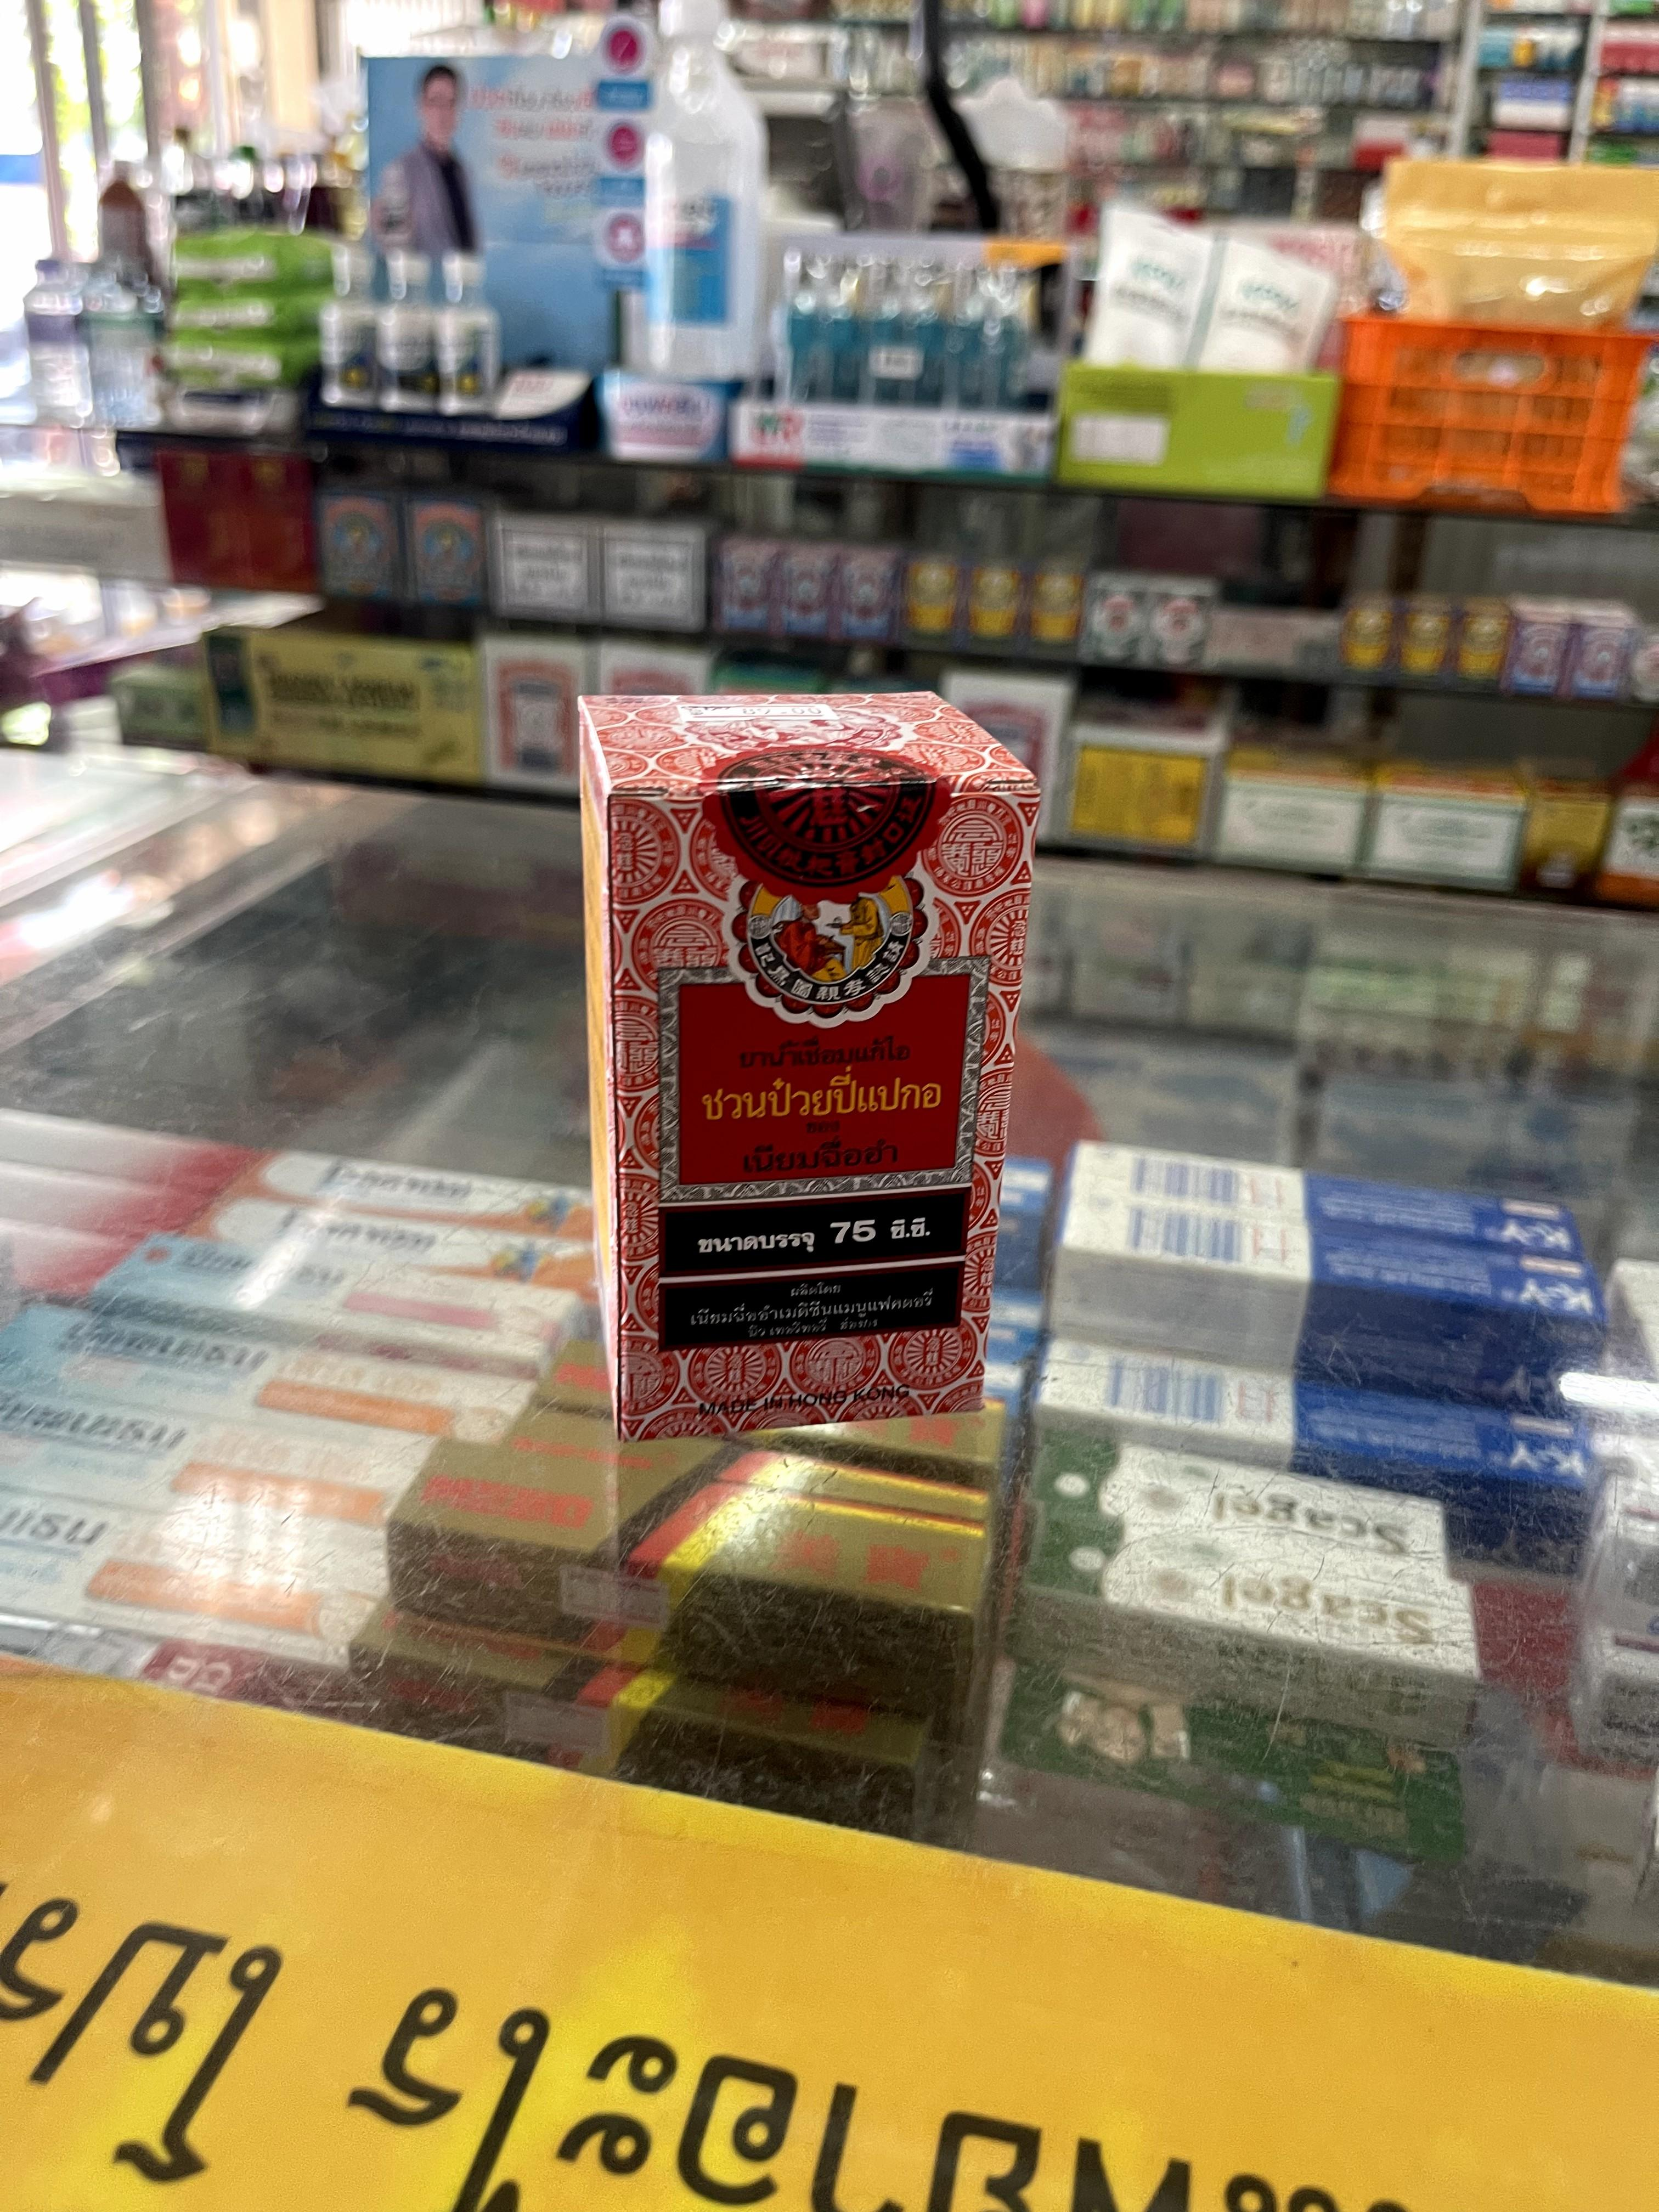Pei-Pa-Koa: (582, 688, 1042, 1446)
